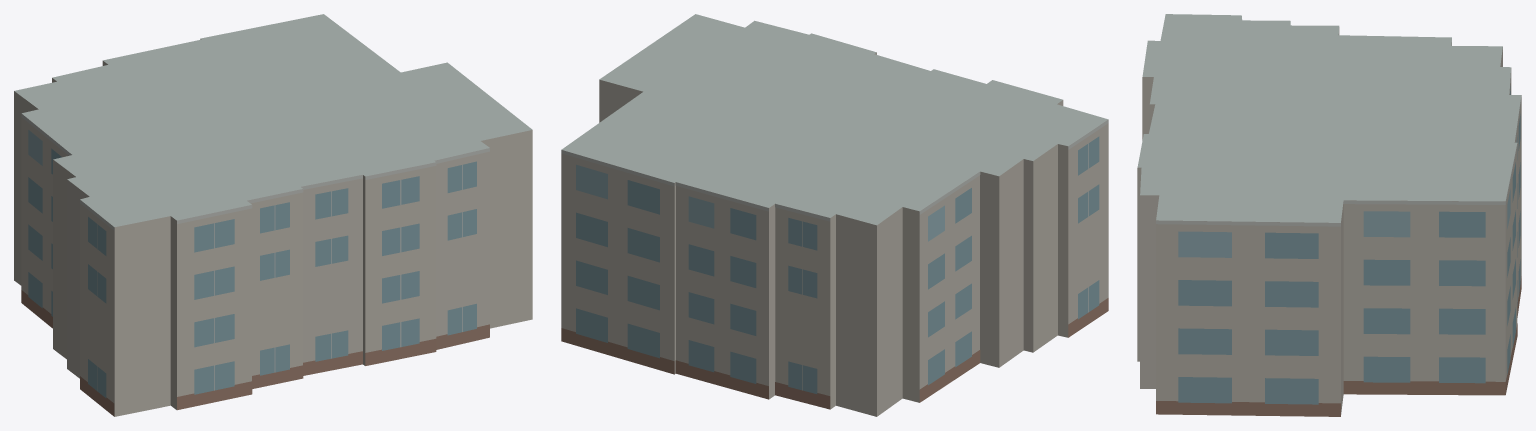
Rendered from survey-upis-32669359.glb.
3 renders of one model, left to right at view 1: azimuth 30°, elevation 25°; view 2: azimuth 150°, elevation 25°; view 3: azimuth 270°, elevation 25°, orthographic. The views are drawn at different scales.
Parts seen in each view (by area): view 1: survey-upis-32669359.tmp; view 2: survey-upis-32669359.tmp; view 3: survey-upis-32669359.tmp.
Boxes of the visible parts, x1,y1,x2,y2 form: survey-upis-32669359.tmp: (14,14,532,416); survey-upis-32669359.tmp: (561,14,1108,416); survey-upis-32669359.tmp: (1137,14,1521,416).
Size of the model in its own units: 29.58 by 12.8 by 22.98.
